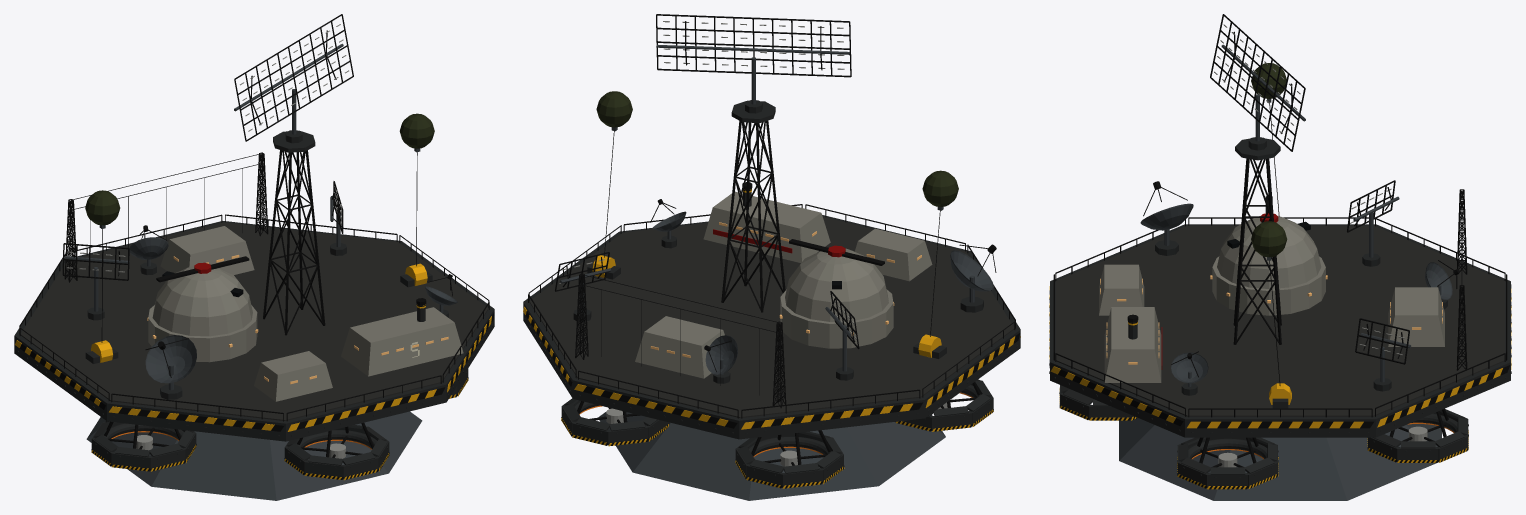
File: station_science.obj
3 views of the same model, side by side, from view 1: azimuth 30°, elevation 25°; view 2: azimuth 150°, elevation 25°; view 3: azimuth 270°, elevation 25° (orthographic). The views are drawn at different scales.
Visible parts, largest first — view 1: station_science; view 2: station_science; view 3: station_science.
Part boxes in pixels (box(x1,y1,x2,y2)): station_science: box(14, 14, 494, 500); station_science: box(523, 14, 1020, 500); station_science: box(1049, 14, 1511, 500).
Bounding box in the file's own units: 1000 × 982 × 1000.
Materials: 1 (1 with a texture image).
